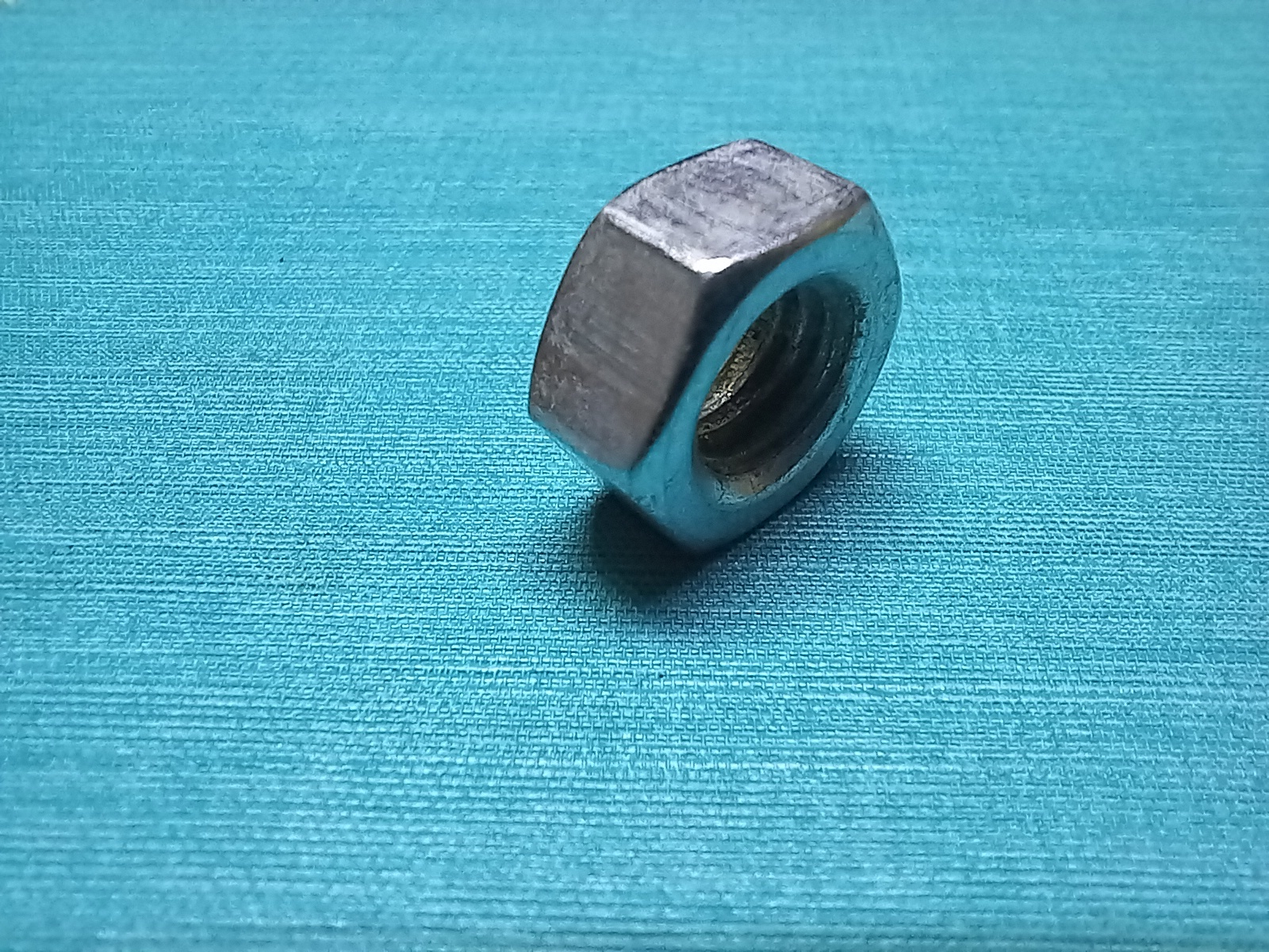nut: (272, 116, 954, 720)
